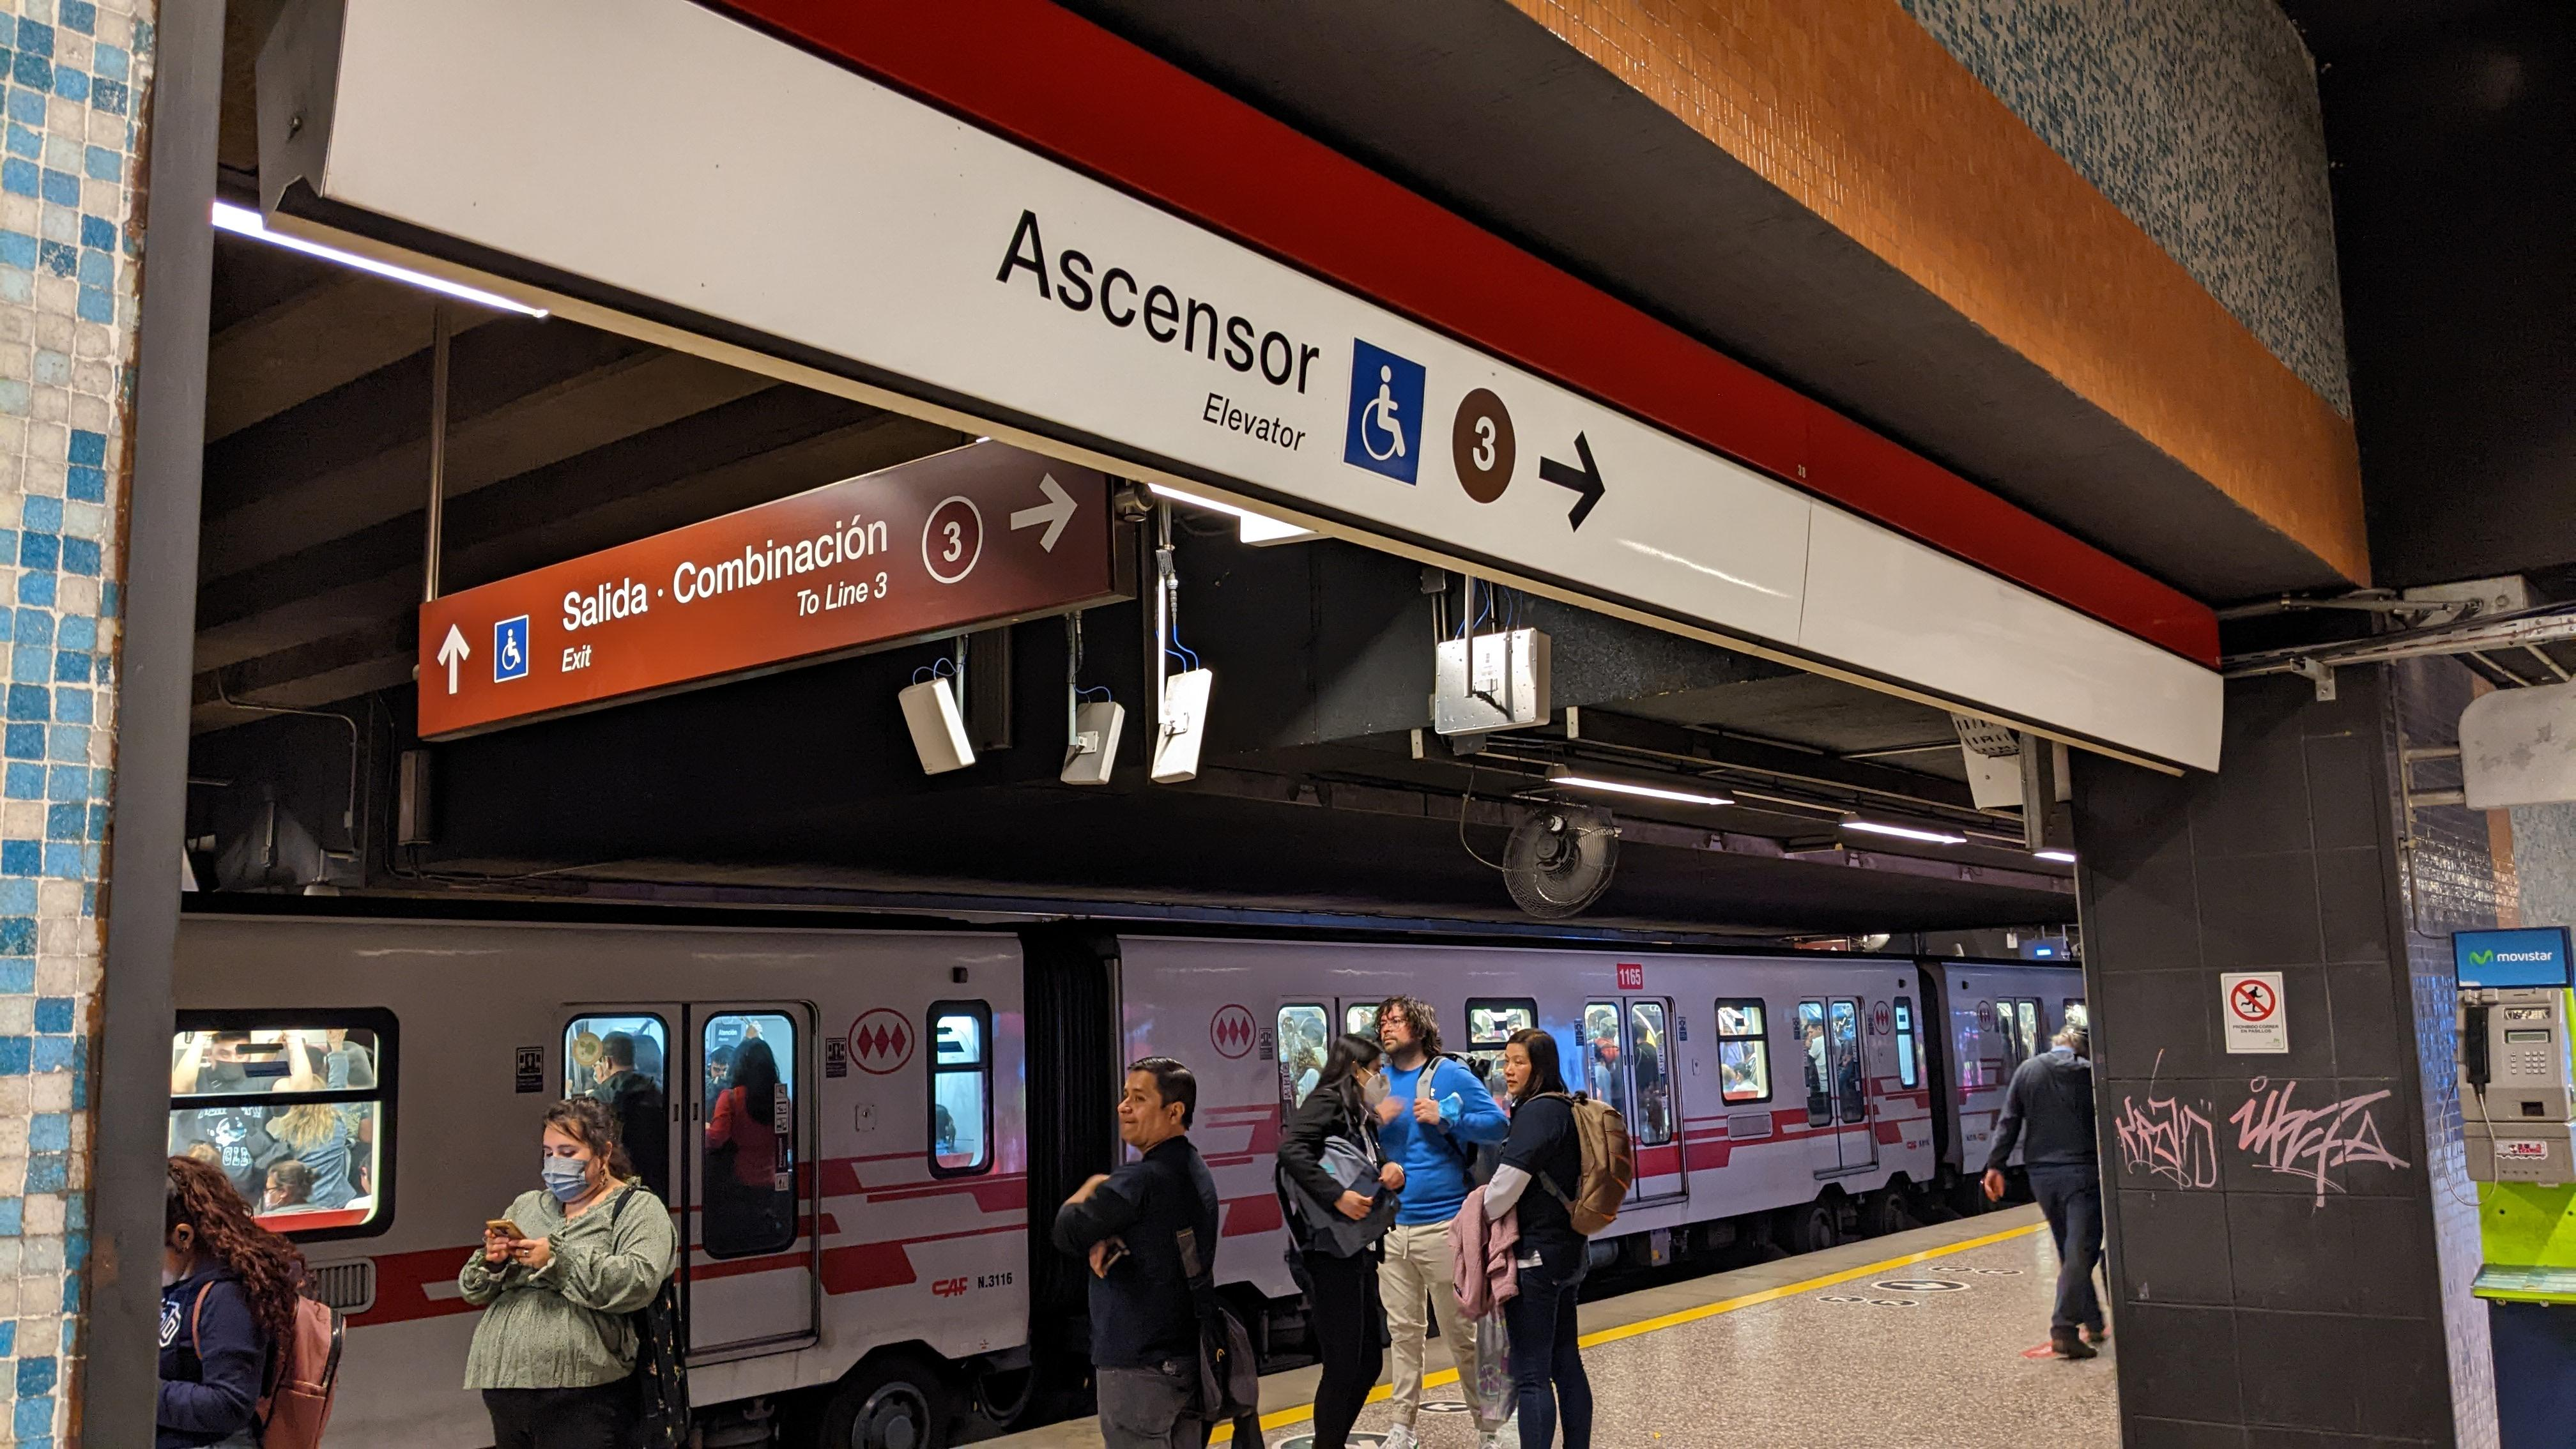handicapped symbol: (1361, 363, 1407, 464), (501, 626, 522, 672)
right arrow: (1532, 426, 1608, 536), (1005, 469, 1081, 559)
up arrow: (437, 619, 472, 699)
